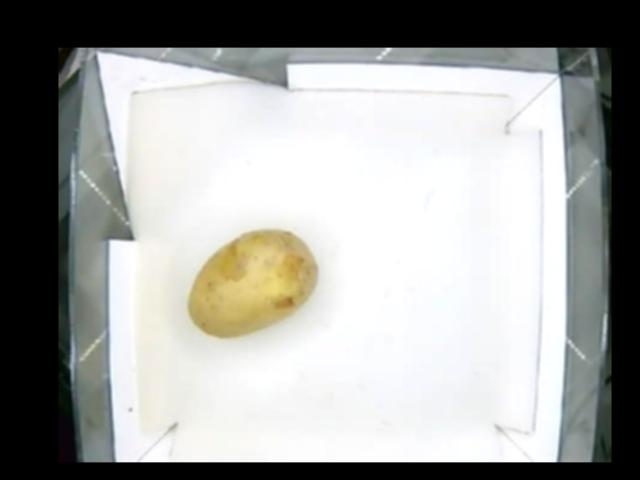Potato: (186, 230, 318, 340)
